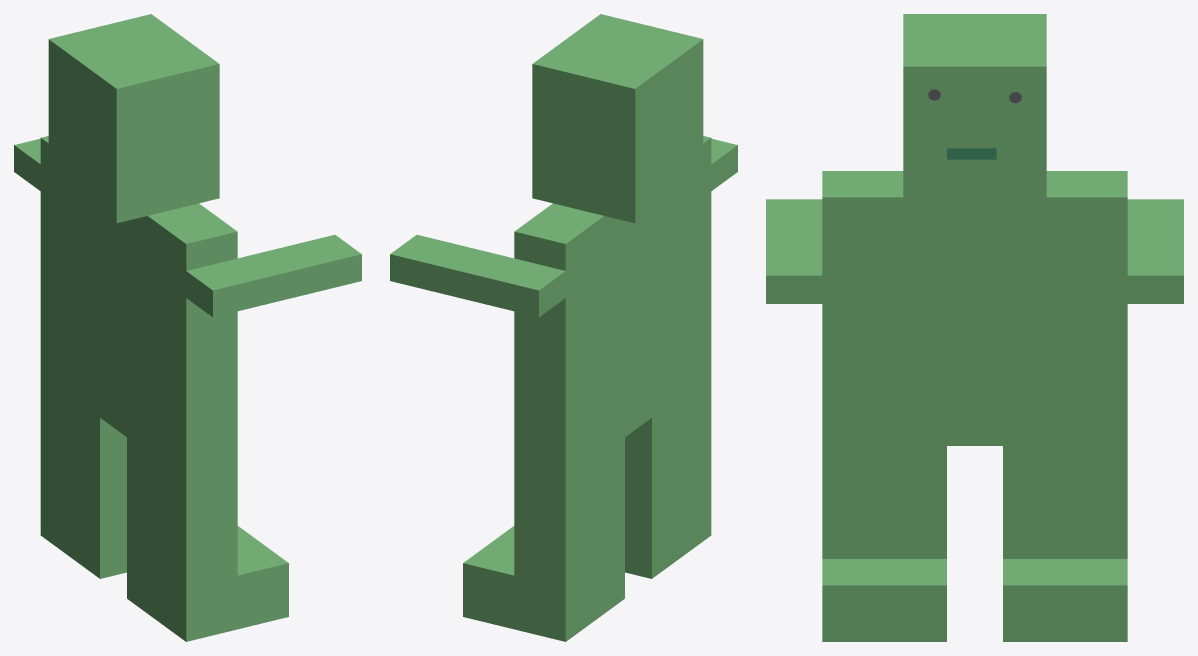
File: Zombie.glb
3 views of the same model, side by side, from view 1: azimuth 30°, elevation 25°; view 2: azimuth 150°, elevation 25°; view 3: azimuth 270°, elevation 25° (orthographic). The views are drawn at different scales.
Parts seen in each view (by area): view 1: Mesh_Mesh_head_geo.001_lambert2SG.001; view 2: Mesh_Mesh_head_geo.001_lambert2SG.001; view 3: Mesh_Mesh_head_geo.001_lambert2SG.001.
Boxes of the visible parts, x1,y1,x2,y2 form: Mesh_Mesh_head_geo.001_lambert2SG.001: [14, 14, 361, 641]; Mesh_Mesh_head_geo.001_lambert2SG.001: [390, 14, 737, 641]; Mesh_Mesh_head_geo.001_lambert2SG.001: [766, 14, 1183, 641].
Size of the model in its own units: 0.035 by 0.099 by 0.067.
